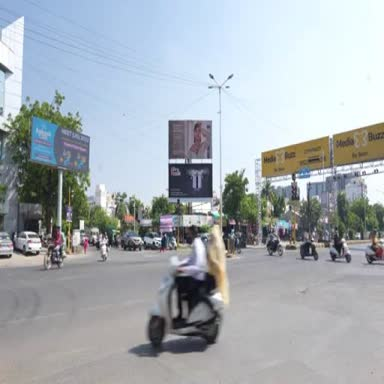Car: (15, 232, 41, 254), (121, 231, 141, 250), (0, 232, 14, 258), (144, 233, 161, 249), (200, 234, 209, 245)
